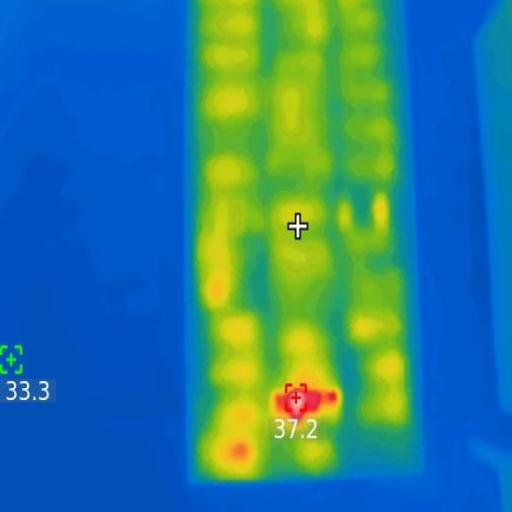hotspot: (276, 385, 338, 414), (234, 441, 248, 462)
